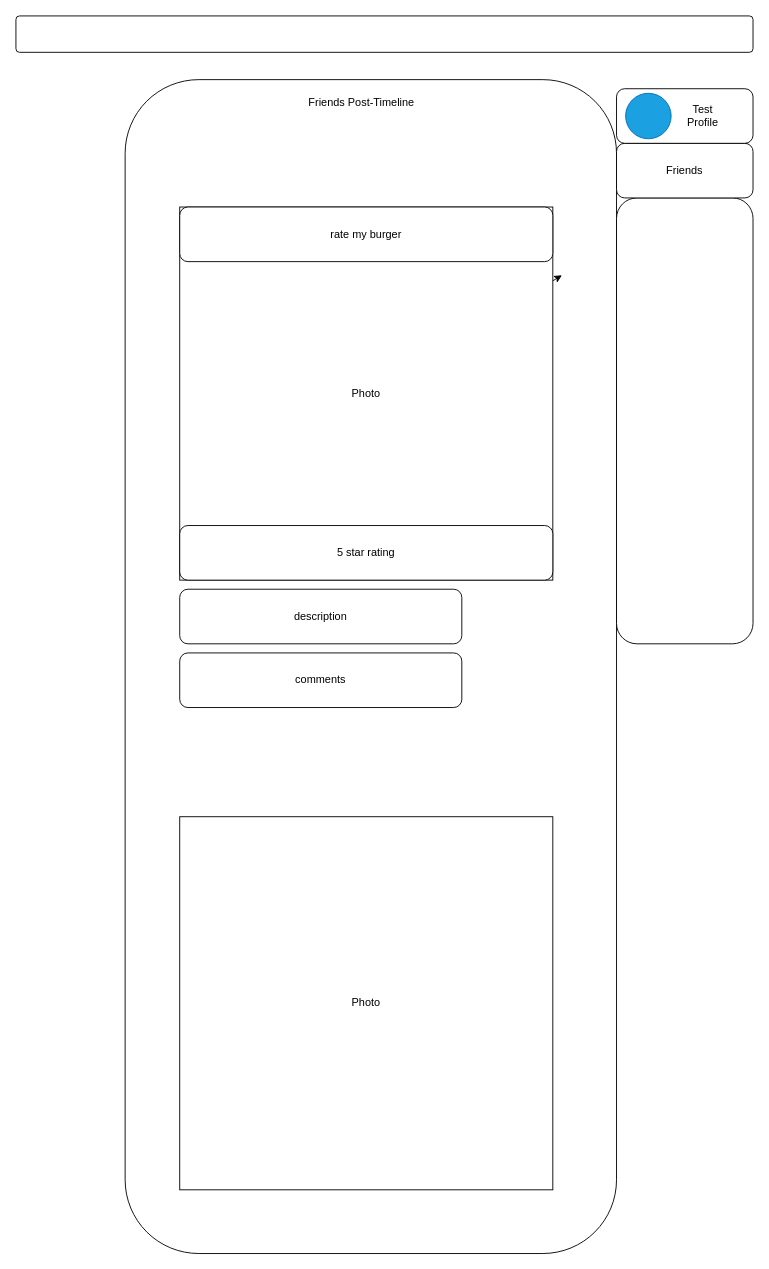
Some shapes in this 769 by 1269 pixel diagram are drawn without their labels. The shapes that lost their labels are listed below. From the top down, each one's box as (x1, y1, x2, y2) in pixels, then its label:
(15, 15, 753, 52): NavBar
(616, 197, 753, 644): Friends list
